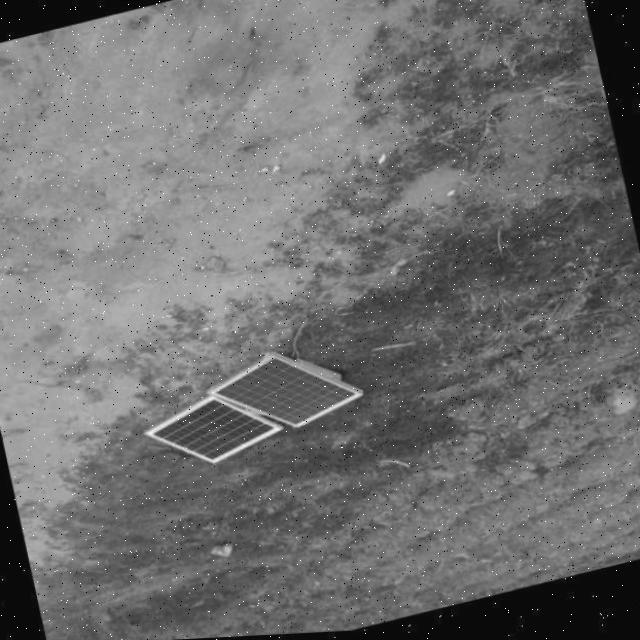Normal Solar Panel: (206, 341, 366, 450), (140, 384, 286, 480)
